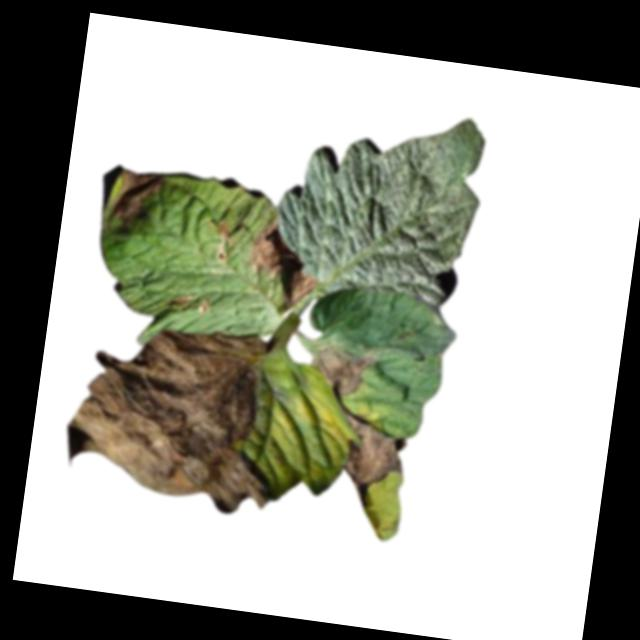Late_blight: (59, 310, 297, 520), (330, 409, 411, 508), (244, 215, 322, 309), (299, 342, 376, 402), (101, 166, 163, 232), (164, 287, 213, 317), (208, 215, 235, 263)
